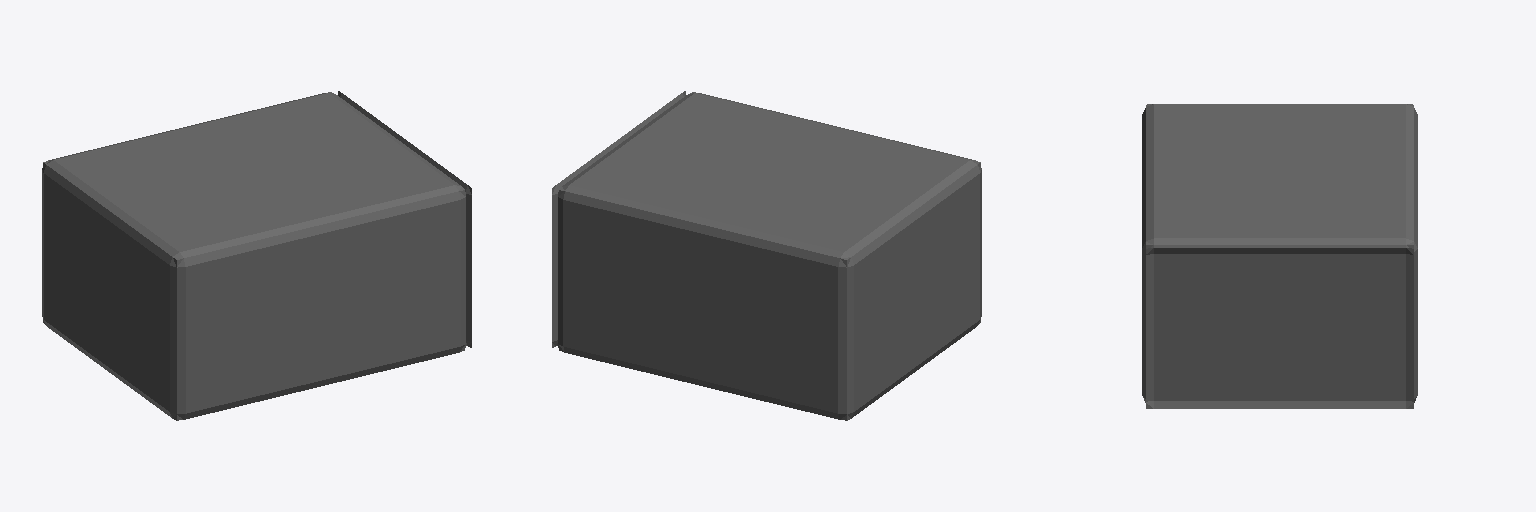
The picture shows the model from 3 angles: view 1: azimuth 30°, elevation 25°; view 2: azimuth 150°, elevation 25°; view 3: azimuth 270°, elevation 25°; orthographic projection.
Visible parts, largest first — view 1: part9:faucet handle 2; view 2: part9:faucet handle 2; view 3: part9:faucet handle 2.
Boxes of the visible parts, x1,y1,x2,y2 form: part9:faucet handle 2: [42, 91, 471, 420]; part9:faucet handle 2: [552, 91, 981, 420]; part9:faucet handle 2: [1142, 104, 1417, 408].
Size of the model in its own units: 0.0445 by 0.0239 by 0.0356.